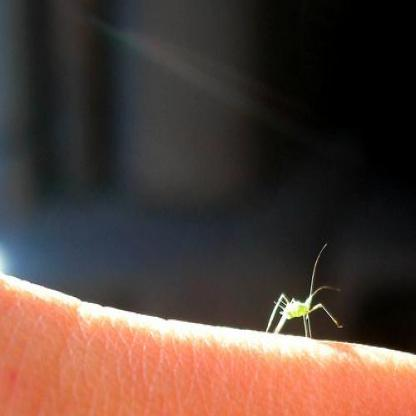aphid: (264, 239, 345, 344)
